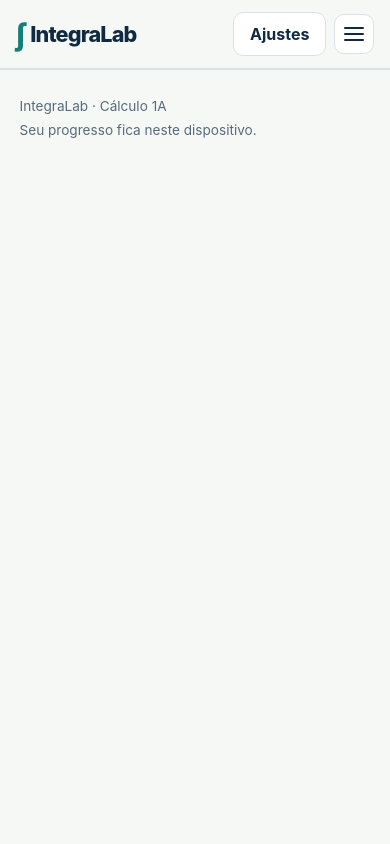
Test: AppShell - Menu Hambúrguer Responsivo › abre e fecha o menu ao clicar no botão hambúrguer
// Abre o menu
Step 1. Click the button named "abrir menu de navegação" → (354, 34), box [334,14,374,54]
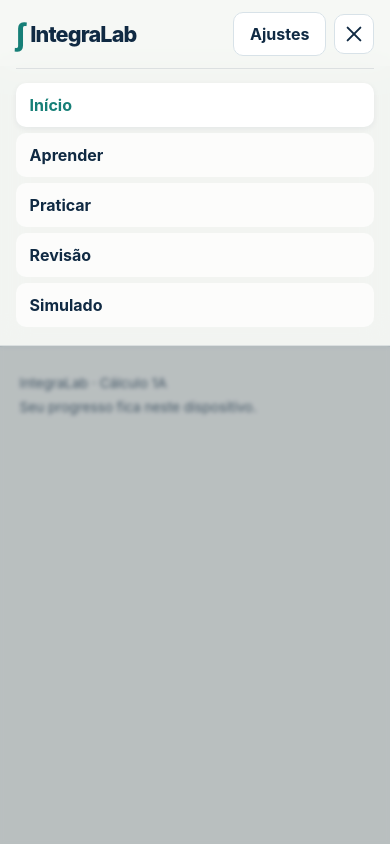
Check: the button named "abrir menu de navegação" is expanded
Check: the button named "fechar menu de navegação" is shown
// Fecha o menu
Step 2. Click the button named "fechar menu de navegação" → (354, 34), box [334,14,374,54]
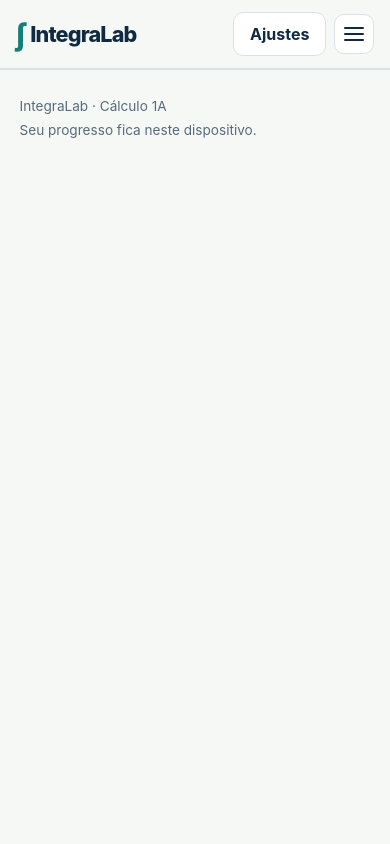
Check: the button named "fechar menu de navegação" is collapsed, box [334,14,374,54]
